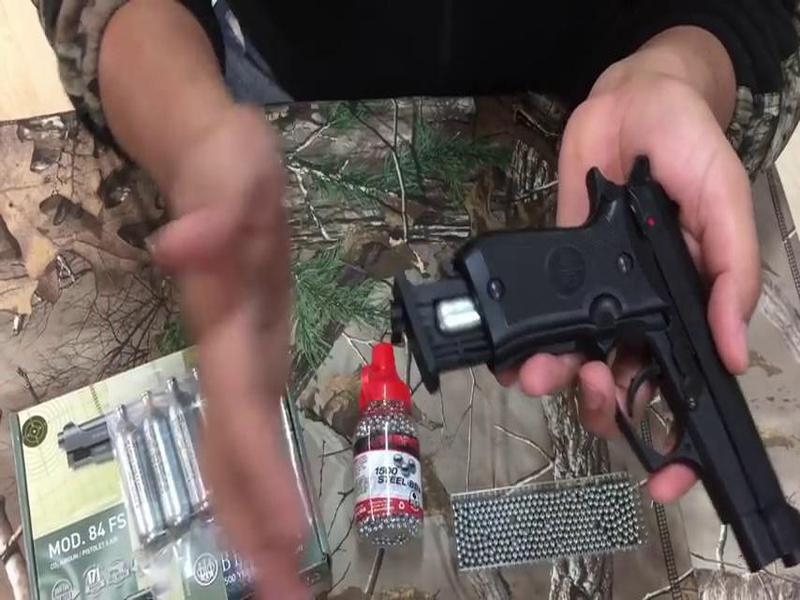Pistola: (455, 136, 800, 581)
